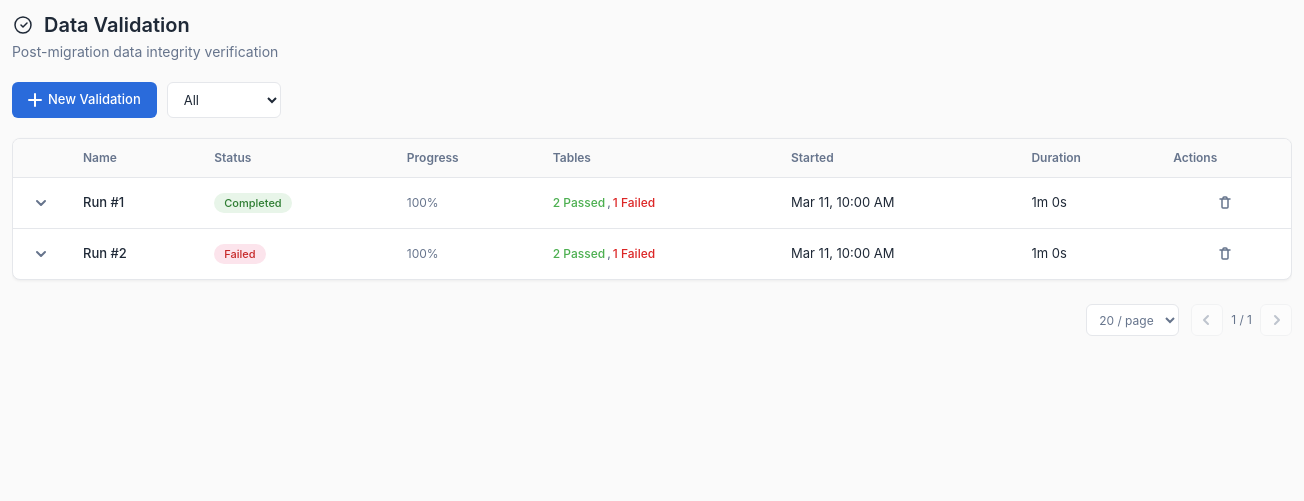
Scenario: Expandable rows and navigation › chevron click expands row and shows nested table with correct data
Expected: the text "Run #1" is shown, left=69, top=178, right=200, bottom=228
Click the button named "Expand run 1" at [41, 203], box left=27, top=189, right=55, bottom=217
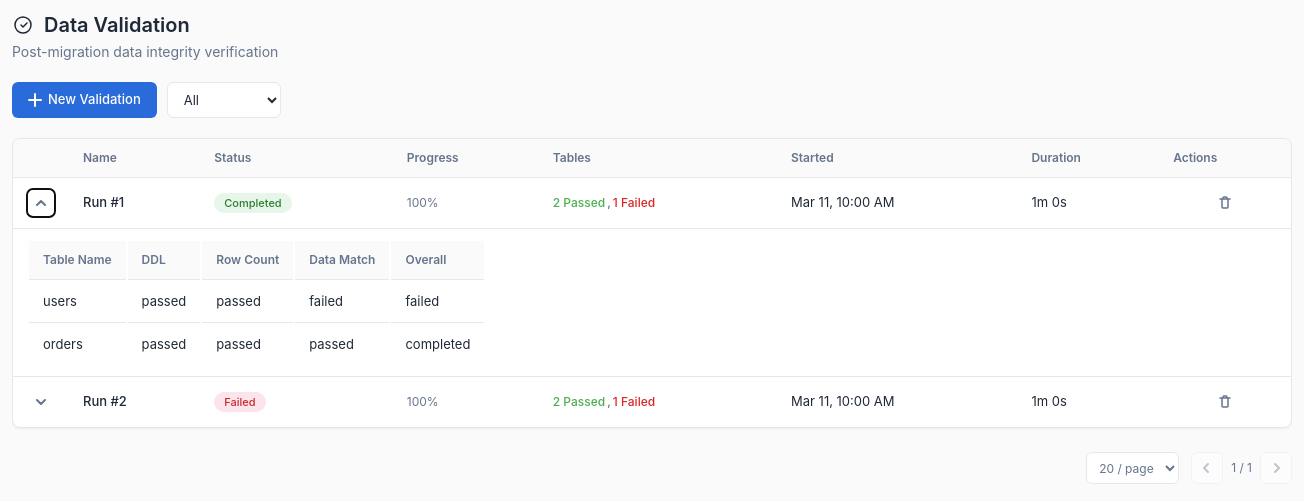
Result: the text "users" is shown at left=29, top=282, right=126, bottom=322
Result: the text "orders" is shown at left=29, top=324, right=126, bottom=364
Result: the column heading "Table Name" is shown at left=29, top=241, right=126, bottom=280
